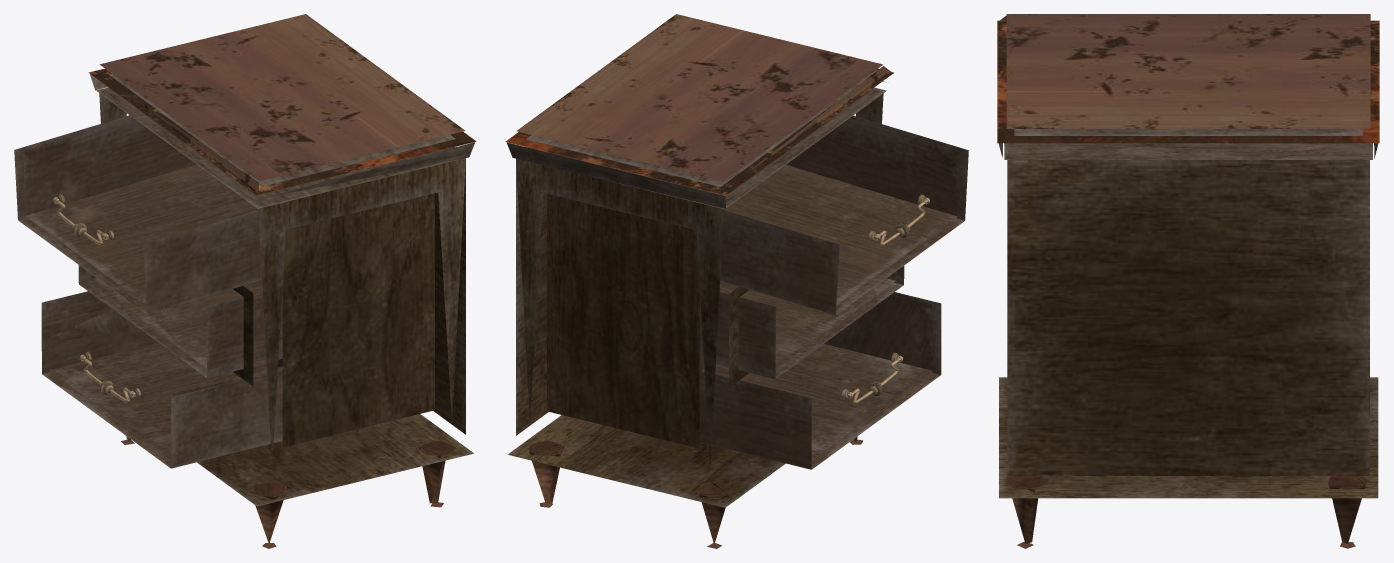
Rendered from dresser_worn.glb.
3 views of the same model, side by side, from view 1: azimuth 30°, elevation 25°; view 2: azimuth 150°, elevation 25°; view 3: azimuth 270°, elevation 25° (orthographic). The views are drawn at different scales.
Parts seen in each view (by area): view 1: frame_low_Material_0, table_low_Material_0, box_low.1_Material_0, box_low.3_Material_0, box_low.2_Material_0, frameTOP_low_Material_0, lags_low_Material_0, handle_low.1_Material_0, handle_low.3_Material_0; view 2: frame_low_Material_0, table_low_Material_0, box_low.1_Material_0, box_low.3_Material_0, box_low.2_Material_0, frameTOP_low_Material_0, lags_low_Material_0, handle_low.1_Material_0, handle_low.3_Material_0; view 3: frame_low_Material_0, table_low_Material_0, frameTOP_low_Material_0, lags_low_Material_0.
Part boxes in pixels (x1=…): frame_low_Material_0: x1=99, y1=93, x2=473, y2=506; table_low_Material_0: x1=88, y1=14, x2=476, y2=195; box_low.1_Material_0: x1=14, y1=115, x2=261, y2=314; box_low.3_Material_0: x1=41, y1=291, x2=282, y2=468; box_low.2_Material_0: x1=78, y1=265, x2=282, y2=378; frameTOP_low_Material_0: x1=90, y1=74, x2=475, y2=208; lags_low_Material_0: x1=121, y1=436, x2=456, y2=548; handle_low.1_Material_0: x1=53, y1=194, x2=114, y2=245; handle_low.3_Material_0: x1=79, y1=351, x2=140, y2=402; frame_low_Material_0: x1=507, y1=93, x2=883, y2=507; table_low_Material_0: x1=505, y1=14, x2=893, y2=195; box_low.1_Material_0: x1=720, y1=115, x2=968, y2=315; box_low.3_Material_0: x1=699, y1=292, x2=941, y2=469; box_low.2_Material_0: x1=699, y1=266, x2=904, y2=379; frameTOP_low_Material_0: x1=506, y1=74, x2=886, y2=209; lags_low_Material_0: x1=528, y1=436, x2=862, y2=548; handle_low.1_Material_0: x1=868, y1=194, x2=929, y2=245; handle_low.3_Material_0: x1=841, y1=352, x2=903, y2=403; frame_low_Material_0: x1=999, y1=160, x2=1378, y2=498; table_low_Material_0: x1=997, y1=14, x2=1379, y2=143; frameTOP_low_Material_0: x1=998, y1=129, x2=1378, y2=159; lags_low_Material_0: x1=1004, y1=385, x2=1369, y2=548.
Size of the model in its own units: 4.66 by 5.24 by 4.25.
Materials: 1 (1 with a texture image).
